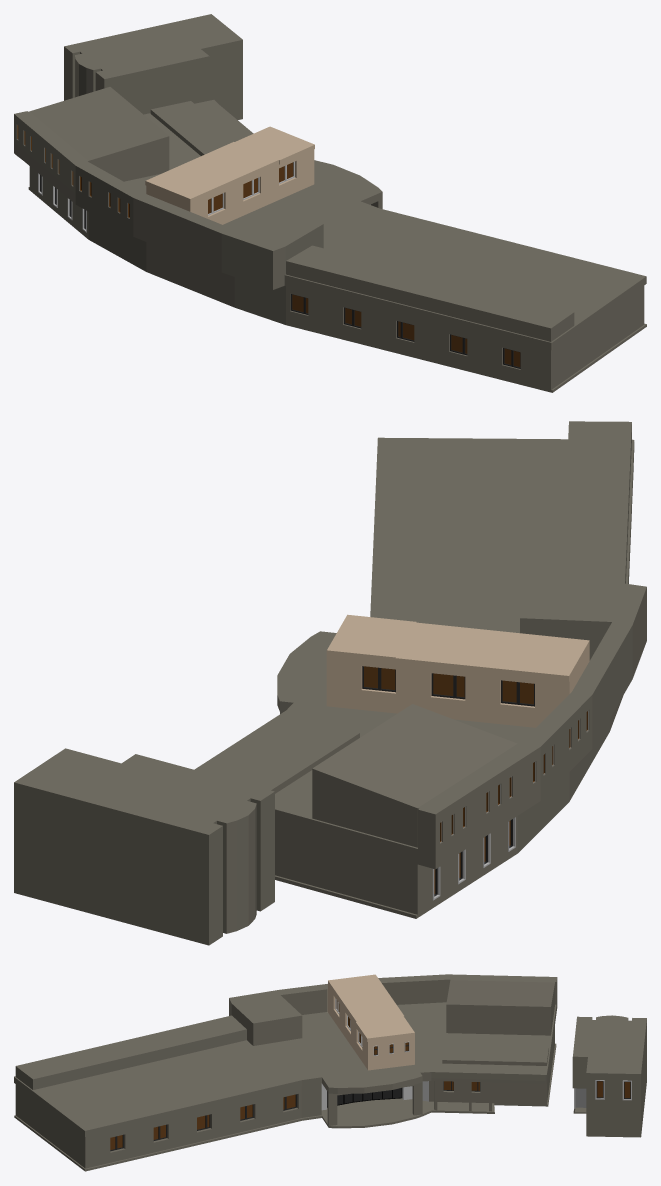
Rendered from infodep4.glb.
The picture shows the model from 3 angles, top to bottom: view 1: azimuth 30°, elevation 25°; view 2: azimuth 150°, elevation 25°; view 3: azimuth 270°, elevation 25°; orthographic projection. The views are drawn at different scales.
Visible parts, largest first — view 1: dep info.001; view 2: dep info.001; view 3: dep info.001.
Boxes of the visible parts, x1=… form: dep info.001: x1=14, y1=14, x2=646, y2=392; dep info.001: x1=14, y1=421, x2=646, y2=945; dep info.001: x1=14, y1=974, x2=646, y2=1171.
Size of the model in its own units: 32.06 by 8.07 by 63.9.
Materials: 1 (1 with a texture image).
